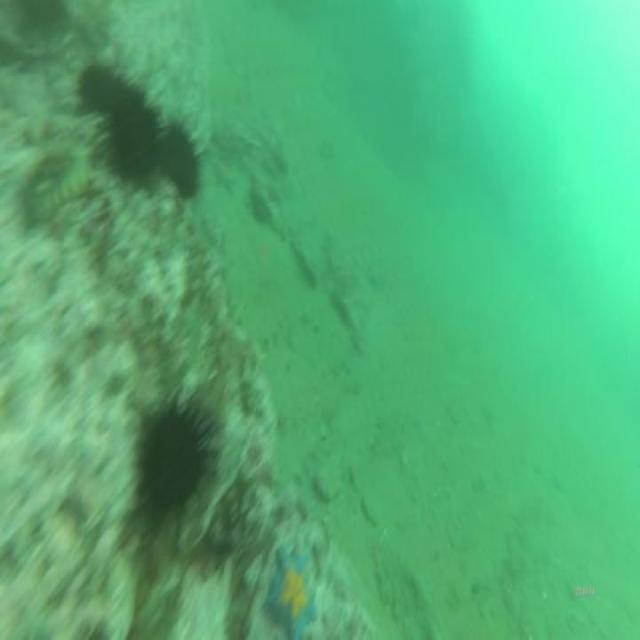echinus: (119, 379, 222, 534), (105, 80, 164, 182), (157, 116, 207, 206), (76, 57, 116, 114)
starfish: (260, 539, 321, 637)
